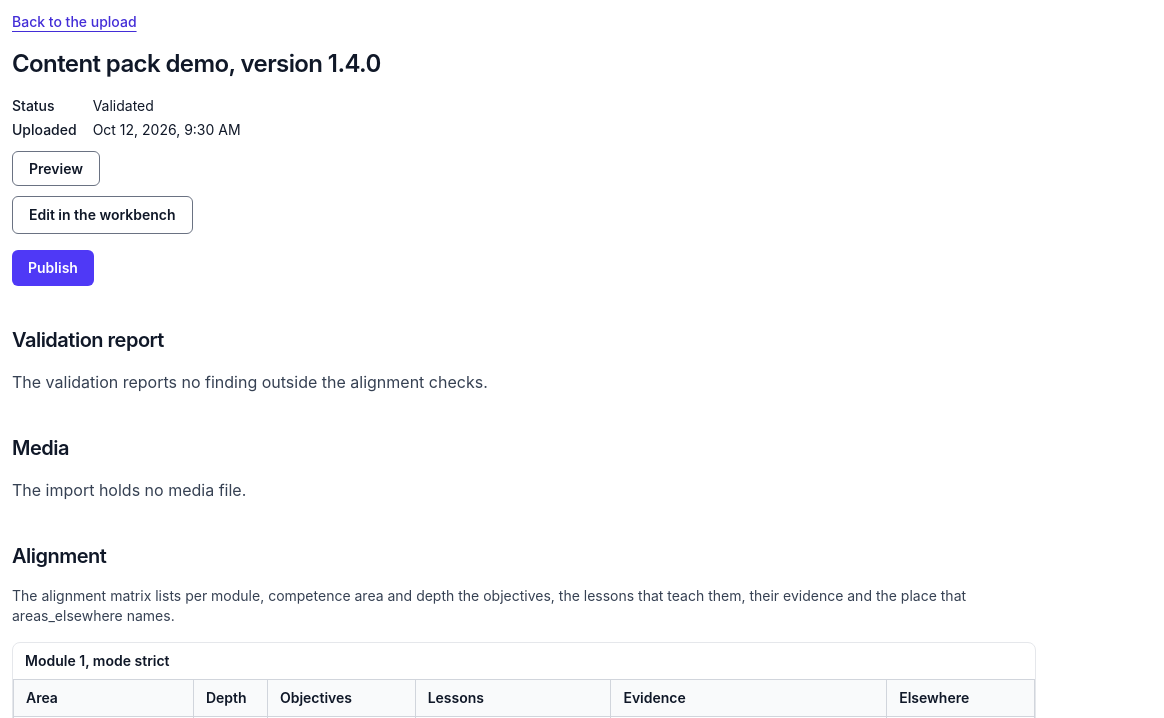
Edit in the workbench › a 409 media_limit names the limit of media files
Click the button "Edit in the workbench". click: (102, 215)
box: [12,196,193,234]
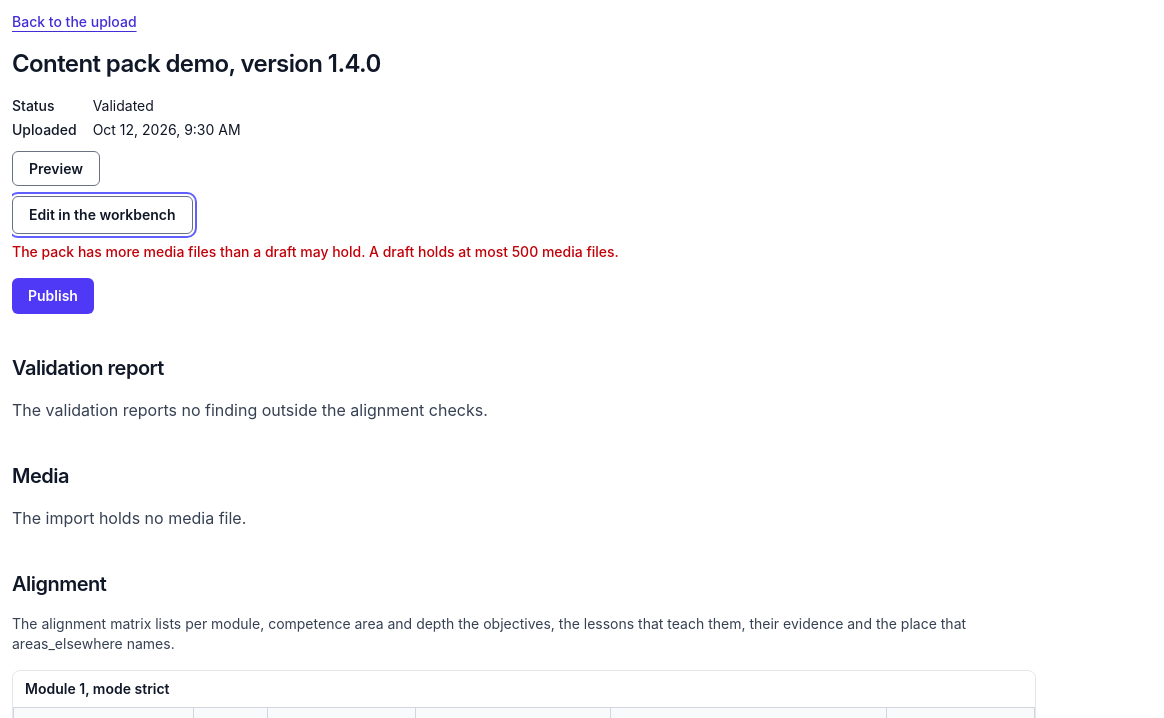
Check: the text "The pack has more media files than a draft may hold. A draft holds at most 500 media files." is shown, box [12,243,619,260]
